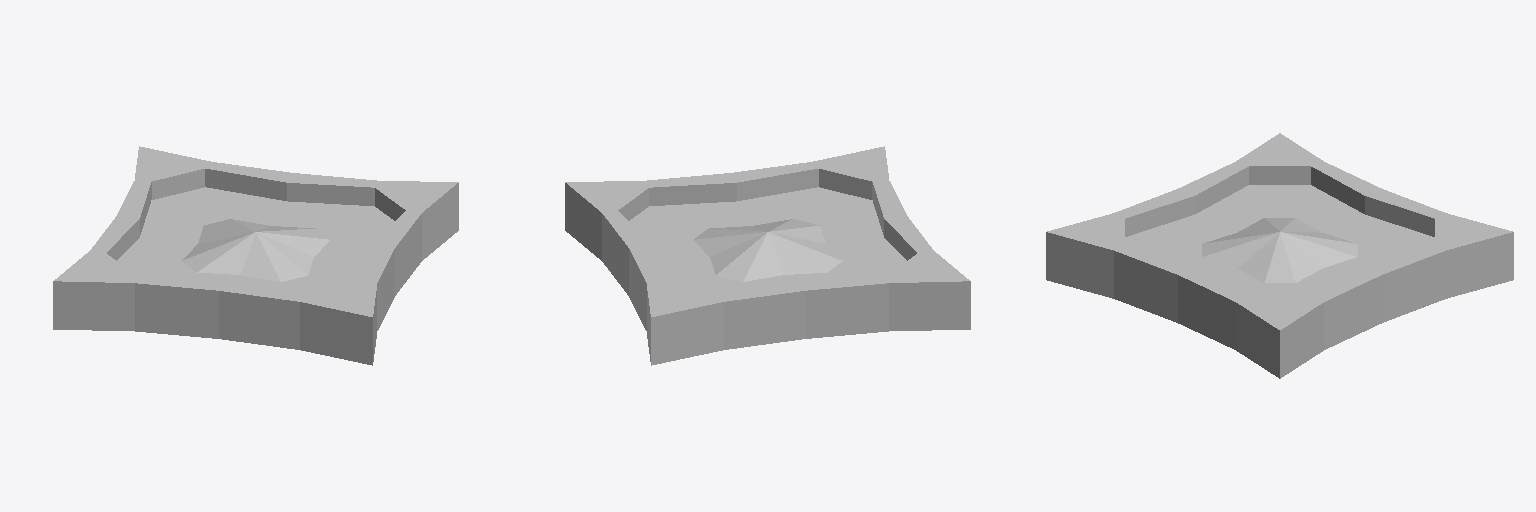
File: 2Disc.obj
The picture shows the model from 3 angles: view 1: azimuth 30°, elevation 25°; view 2: azimuth 150°, elevation 25°; view 3: azimuth 270°, elevation 25°; orthographic projection.
Parts seen in each view (by area): view 1: 2Disc; view 2: 2Disc; view 3: 2Disc.
Boxes of the visible parts, x1=… form: 2Disc: x1=53, y1=146, x2=458, y2=365; 2Disc: x1=565, y1=146, x2=970, y2=365; 2Disc: x1=1046, y1=133, x2=1513, y2=378.
Bounding box in the file's own units: 6.81 × 0.7754 × 6.81.